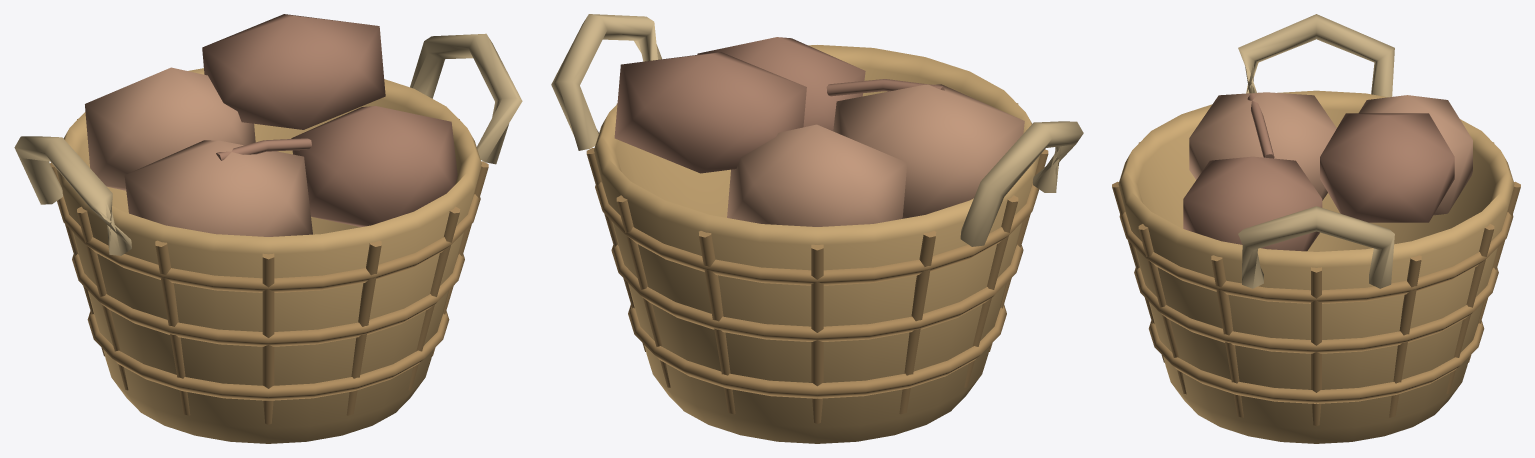
File: goods_raw_clay_basket.glb
3 renders of one model, left to right at view 1: azimuth 30°, elevation 25°; view 2: azimuth 150°, elevation 25°; view 3: azimuth 270°, elevation 25°, orthographic. The views are drawn at different scales.
Parts seen in each view (by area): view 1: goods_raw_clay_basket; view 2: goods_raw_clay_basket; view 3: goods_raw_clay_basket.
Boxes of the visible parts, x1,y1,x2,y2 form: goods_raw_clay_basket: (14, 14, 522, 443); goods_raw_clay_basket: (551, 14, 1083, 443); goods_raw_clay_basket: (1112, 14, 1520, 443).
Bounding box in the file's own units: 0.528 × 0.363 × 0.4497.
